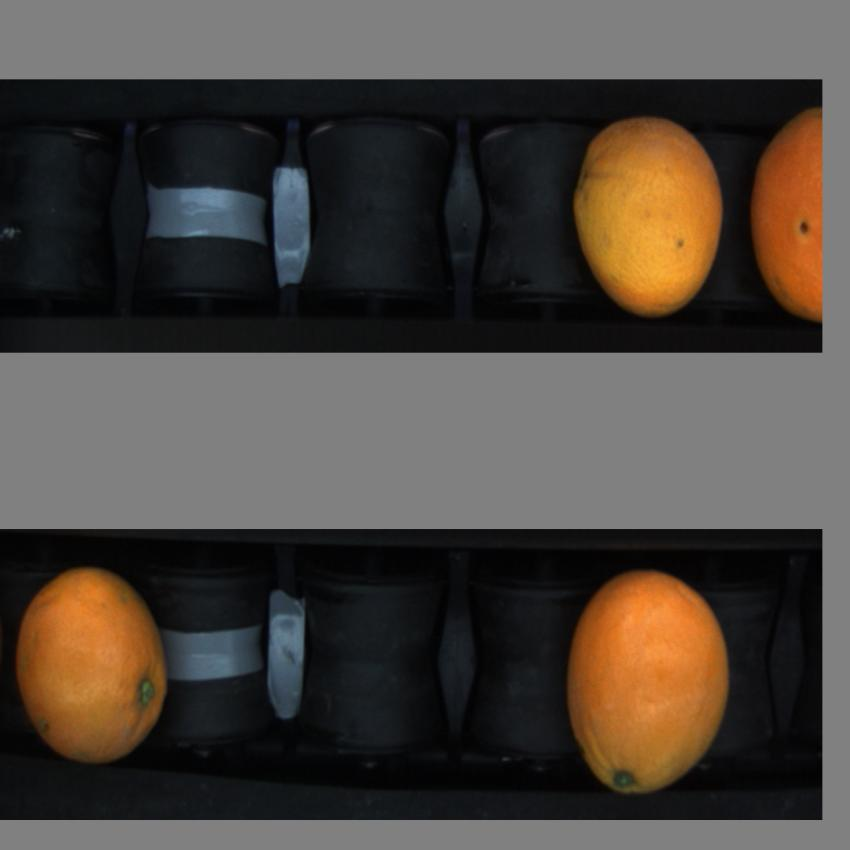Buen estado: (558, 553, 744, 811), (8, 562, 192, 767), (567, 104, 728, 327), (746, 101, 822, 336)
